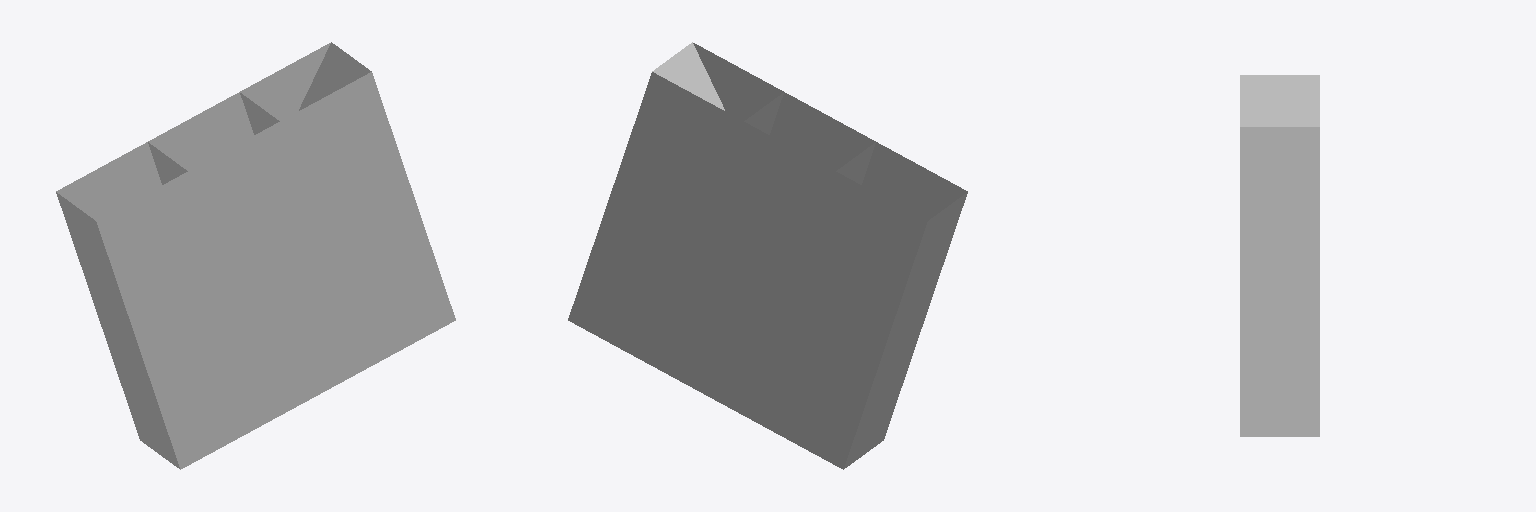
File: 3d_Felwood-Creek 02.wlw.obj
3 renders of one model, left to right at view 1: azimuth 30°, elevation 25°; view 2: azimuth 150°, elevation 25°; view 3: azimuth 270°, elevation 25°, orthographic.
Size of the model in its own units: 51.42 by 47.99 by 10.